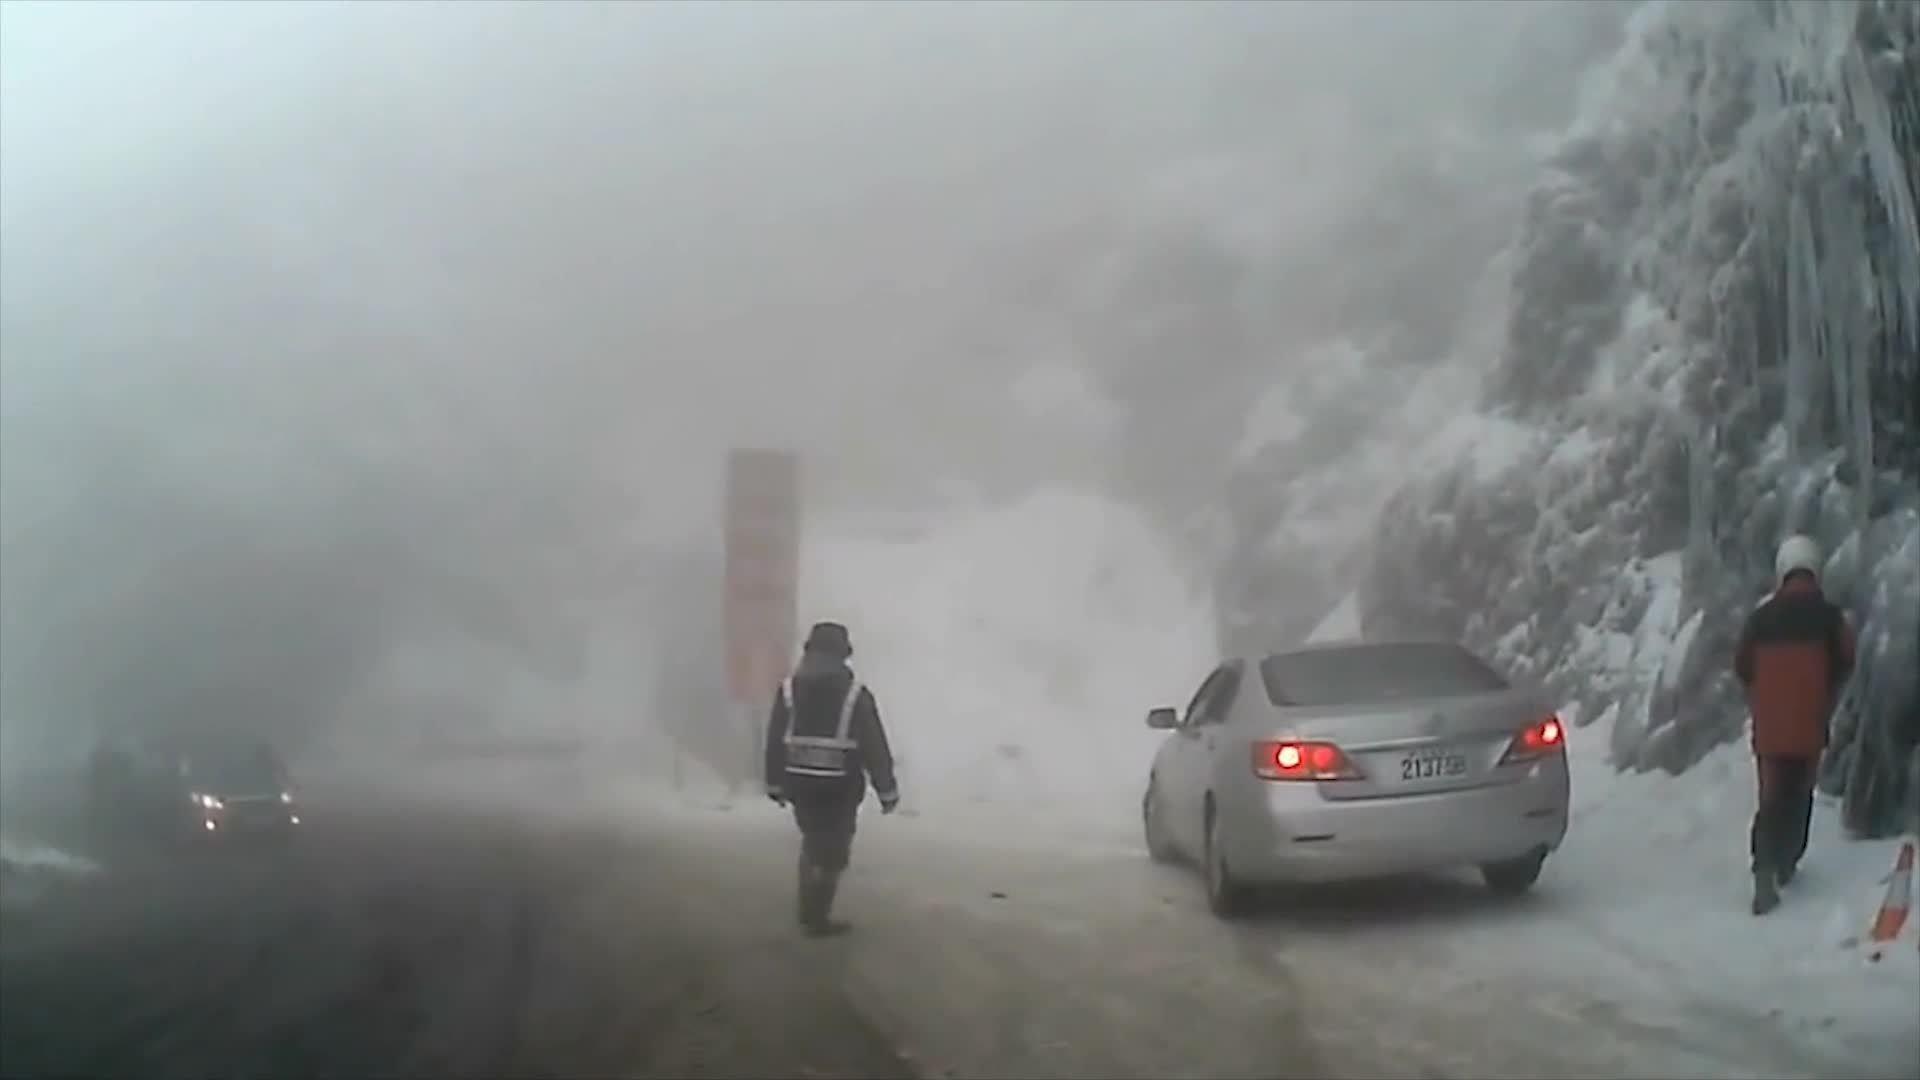pedestrian: (1738, 532, 1857, 915), (766, 619, 909, 933)
vehicle: (1140, 636, 1571, 916)
